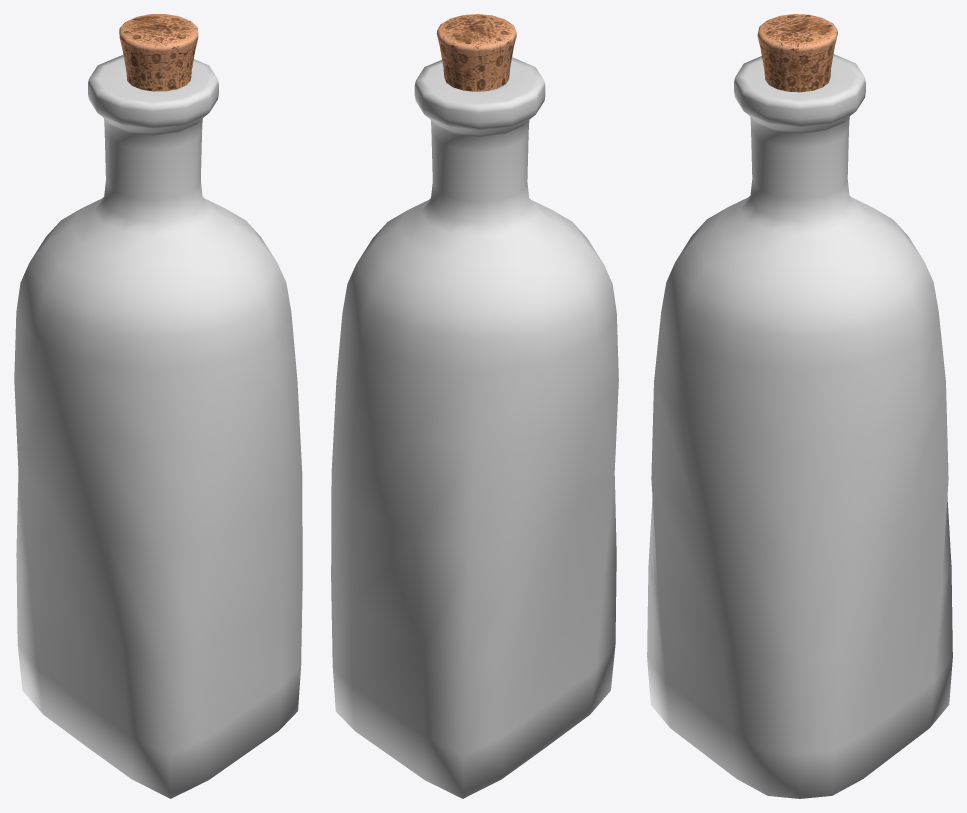
File: bottle_a.fbx
The picture shows the model from 3 angles, left to right: view 1: azimuth 30°, elevation 25°; view 2: azimuth 150°, elevation 25°; view 3: azimuth 270°, elevation 25°; orthographic projection.
Parts seen in each view (by area): view 1: potion_a; view 2: potion_a; view 3: potion_a.
Part boxes in pixels (x1=…): potion_a: x1=14, y1=14, x2=302, y2=798; potion_a: x1=331, y1=14, x2=618, y2=798; potion_a: x1=647, y1=14, x2=952, y2=798.
Bounding box in the file's own units: 50.21 × 132 × 51.8.
